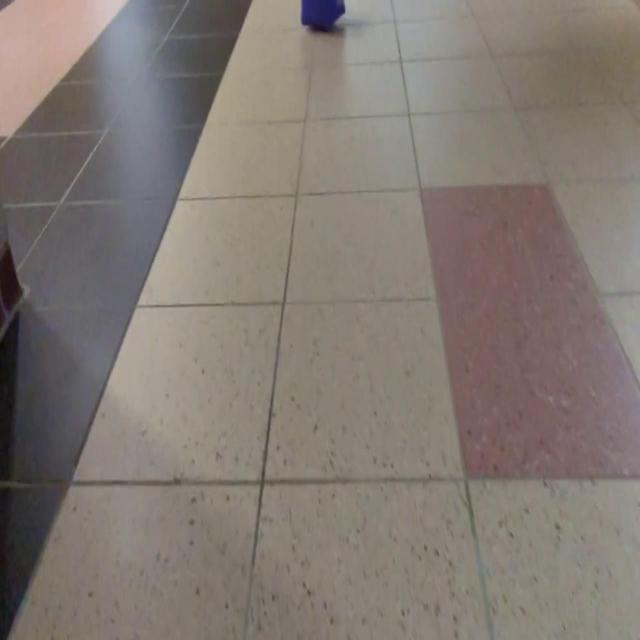frc_cube: (298, 0, 346, 30)
